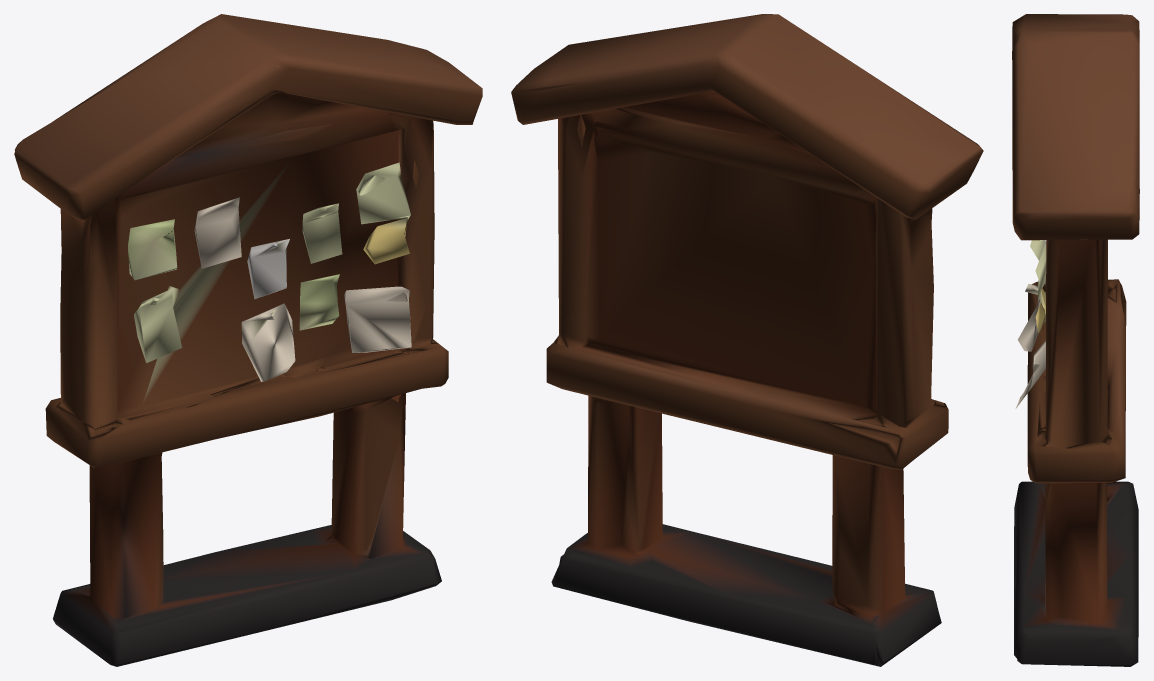
File: gen3d-notice-board-lod1.glb
The picture shows the model from 3 angles, left to right: view 1: azimuth 30°, elevation 25°; view 2: azimuth 150°, elevation 25°; view 3: azimuth 270°, elevation 25°; orthographic projection. The views are drawn at different scales.
Parts seen in each view (by area): view 1: part_0; view 2: part_0; view 3: part_0.
Boxes of the visible parts, <box> form: part_0: <box>14,14,482,666</box>; part_0: <box>511,14,983,666</box>; part_0: <box>1012,14,1139,666</box>.
Size of the model in its own units: 0.7607 by 0.9994 by 0.2077.
